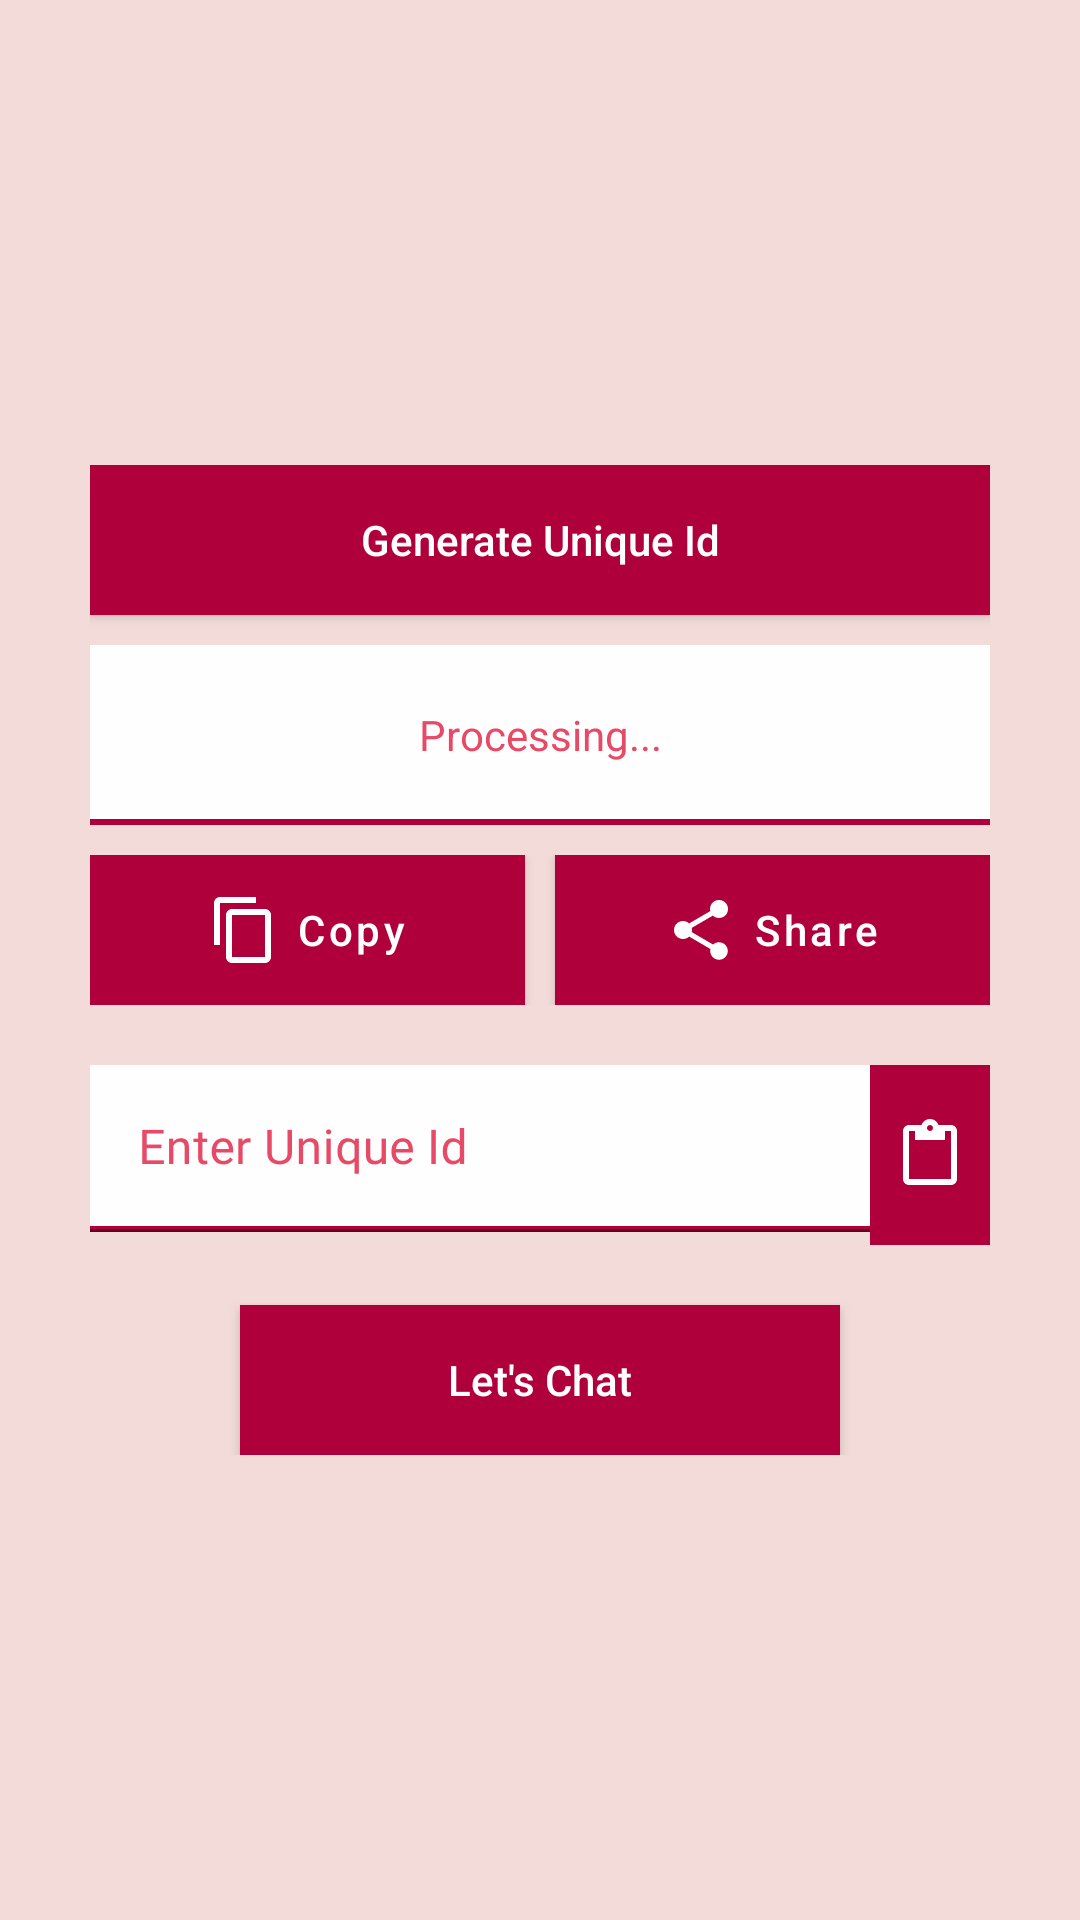

Locate icon controls on the screen. Image size 1080×1920, boxes as box(x1, y1, x2, y2).
paste: box(870, 1065, 990, 1245)
